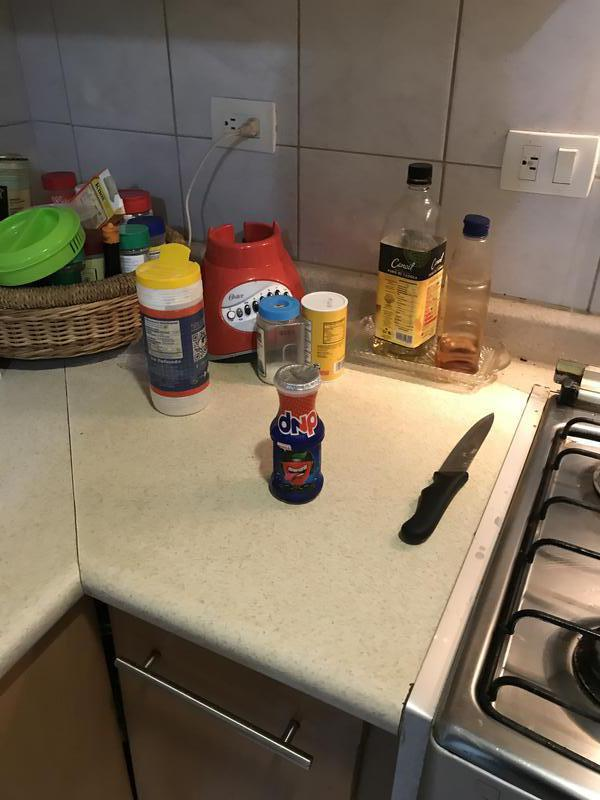danup: (267, 364, 325, 504)
